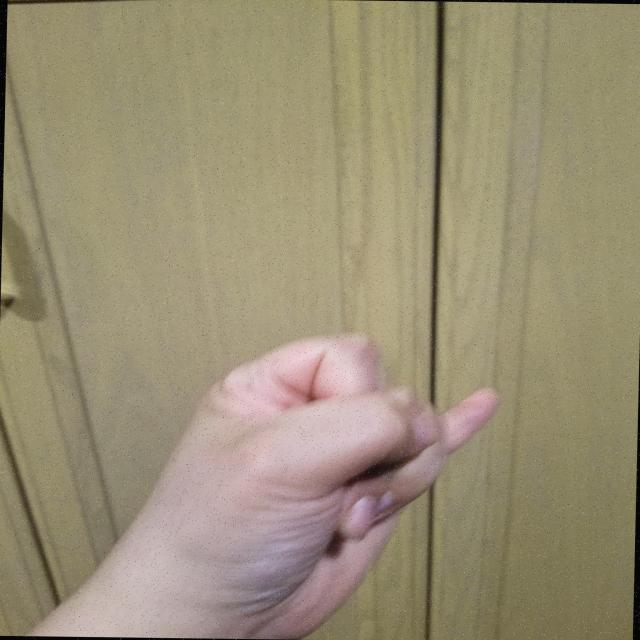J: (114, 311, 519, 640)
